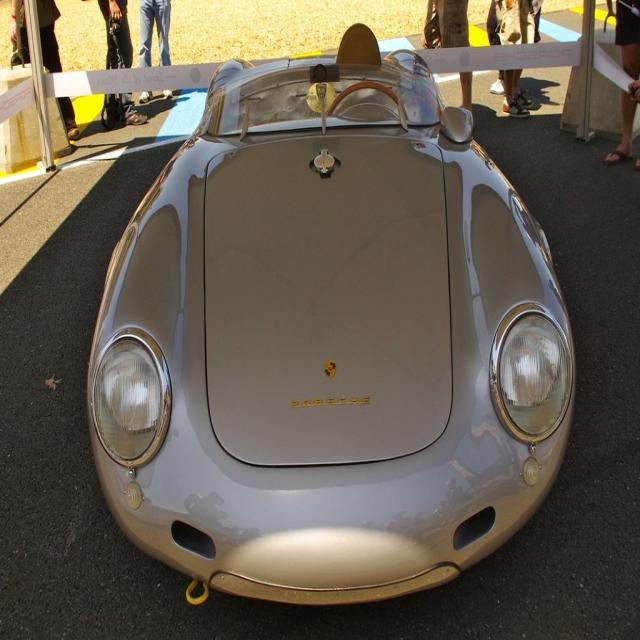car: (82, 21, 581, 625)
